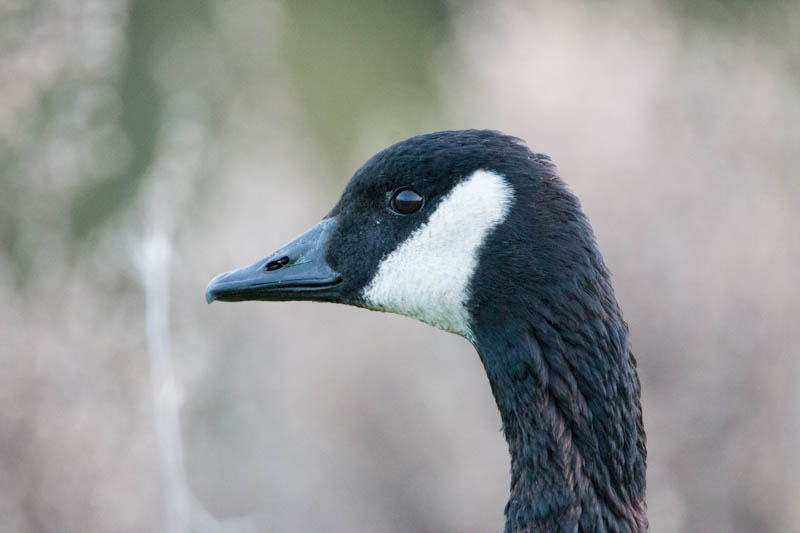goose-head: (203, 129, 593, 348)
